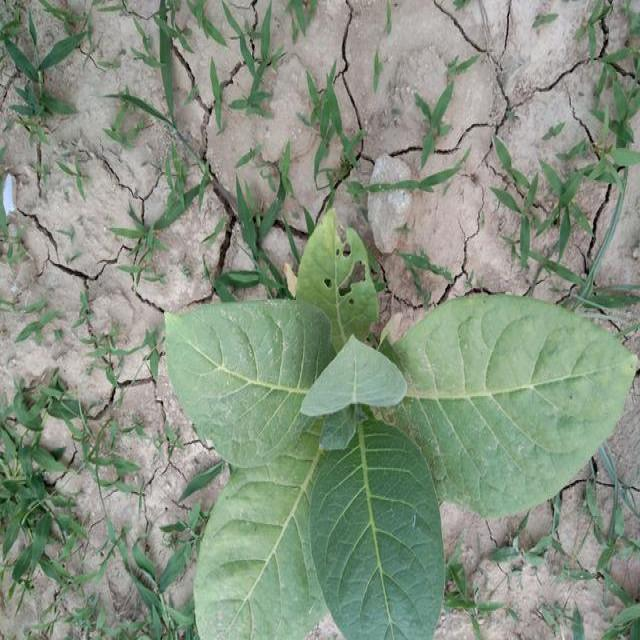crop: (153, 203, 640, 640)
